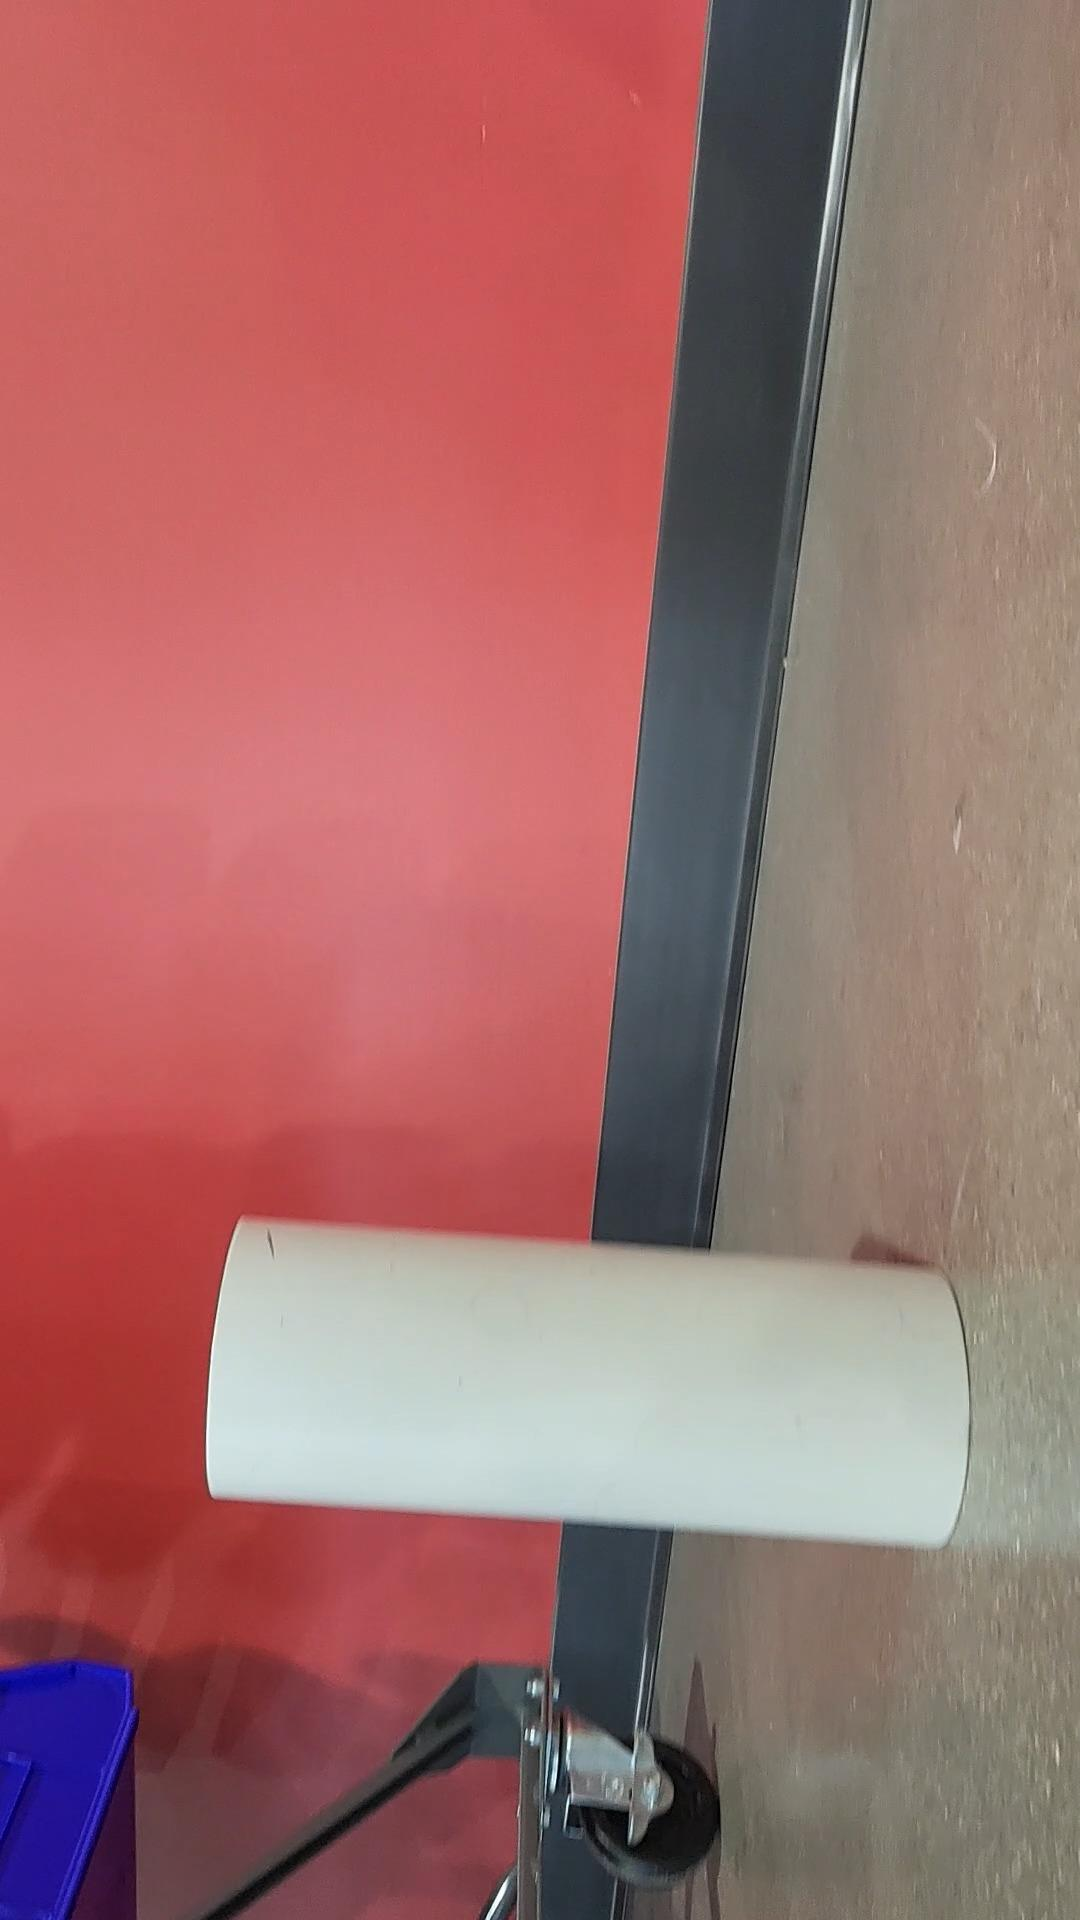coral: (203, 1215, 977, 1552)
